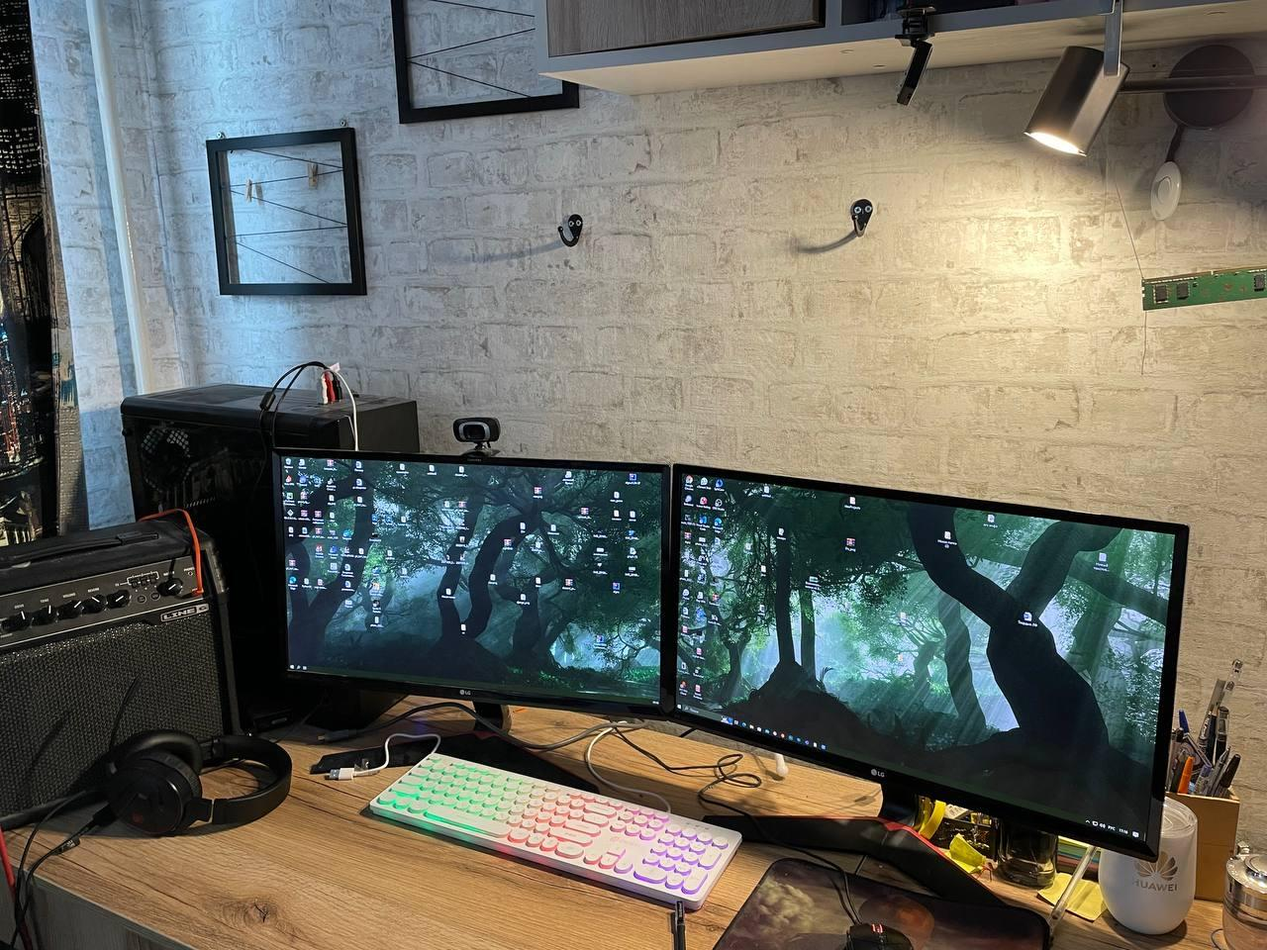monitor: (669, 462, 1196, 864), (263, 435, 679, 725)
